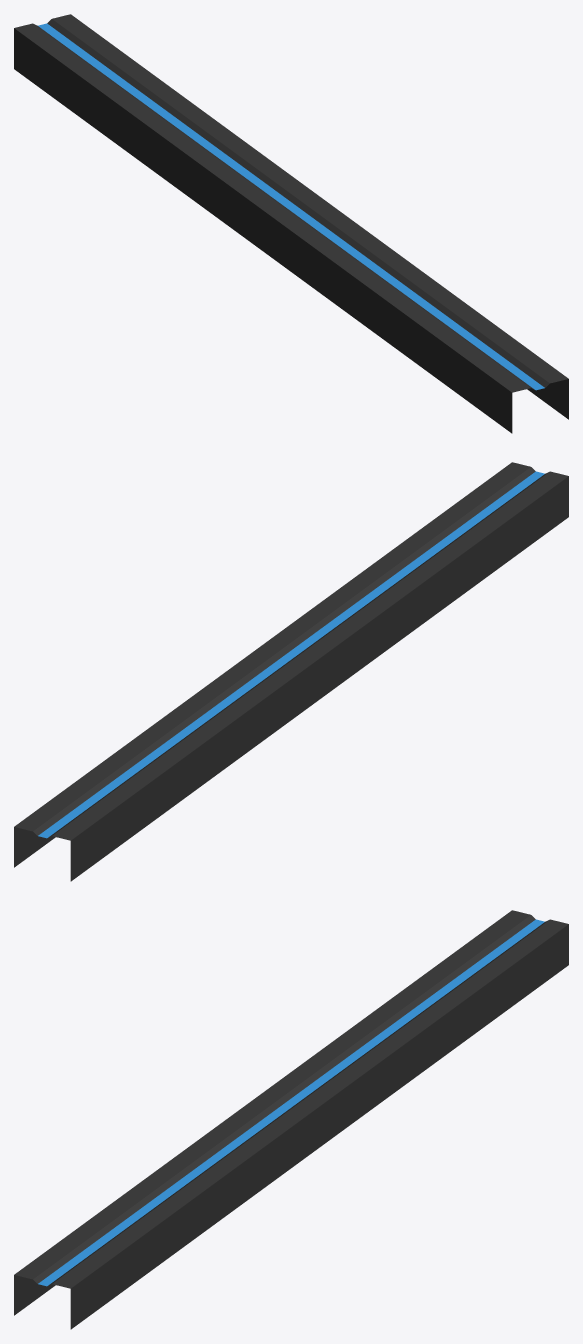
3 renders of one model, top to bottom at view 1: azimuth 30°, elevation 25°; view 2: azimuth 150°, elevation 25°; view 3: azimuth 330°, elevation 25°, orthographic.
Visible parts, largest first — view 1: 1000; view 2: 1000; view 3: 1000.
Boxes of the visible parts, x1=… form: 1000: x1=14, y1=14, x2=568, y2=433; 1000: x1=14, y1=462, x2=568, y2=881; 1000: x1=14, y1=910, x2=568, y2=1329.
Bounding box in the file's own units: 0.0625 × 0.0432 × 0.9492.
